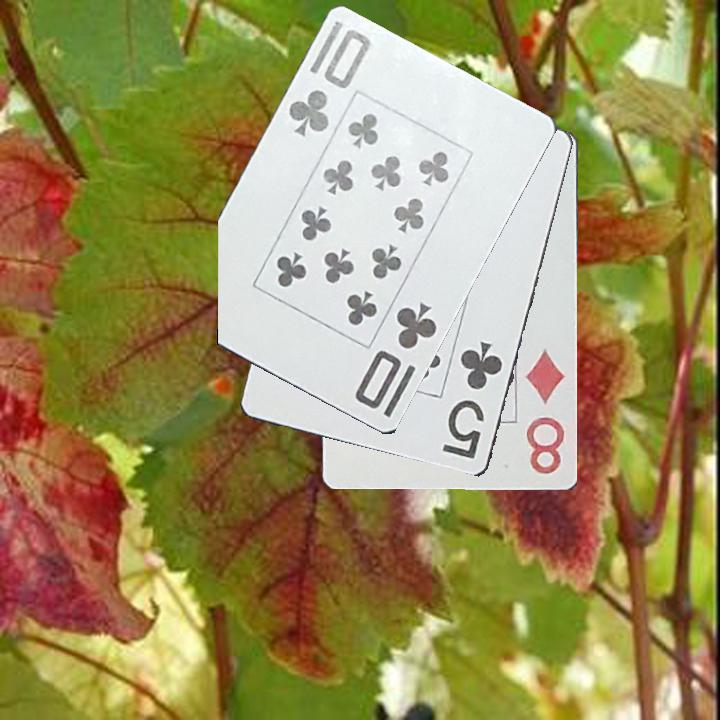5c: (439, 338, 506, 463)
8d: (522, 346, 570, 478)
Tc: (278, 18, 379, 141), (351, 299, 441, 413)
